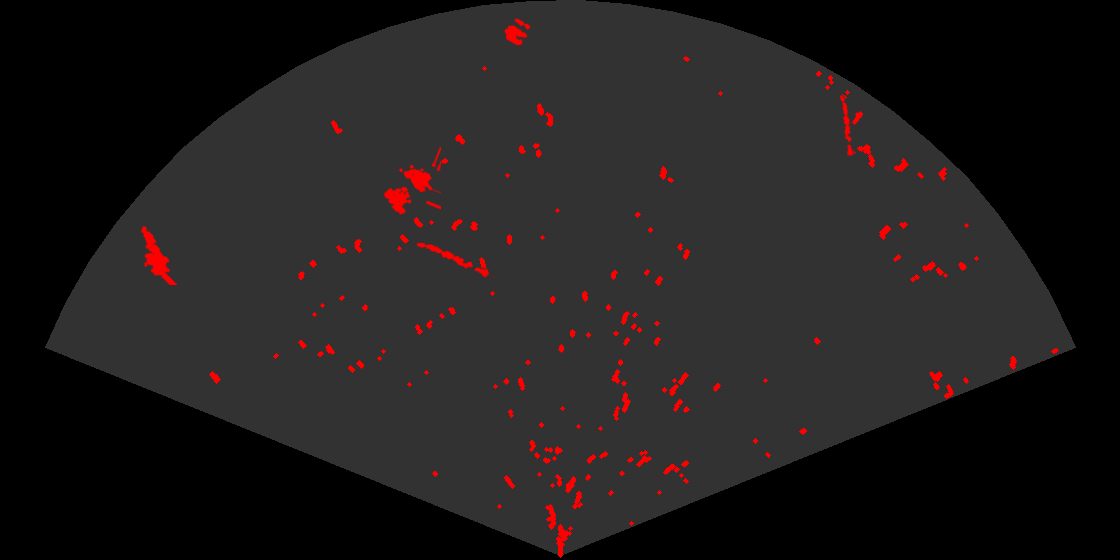ball: (503, 17, 532, 47)
cage: (382, 147, 441, 217)
chain: (415, 241, 497, 280), (838, 93, 856, 156)
frogman: (139, 224, 179, 285)
